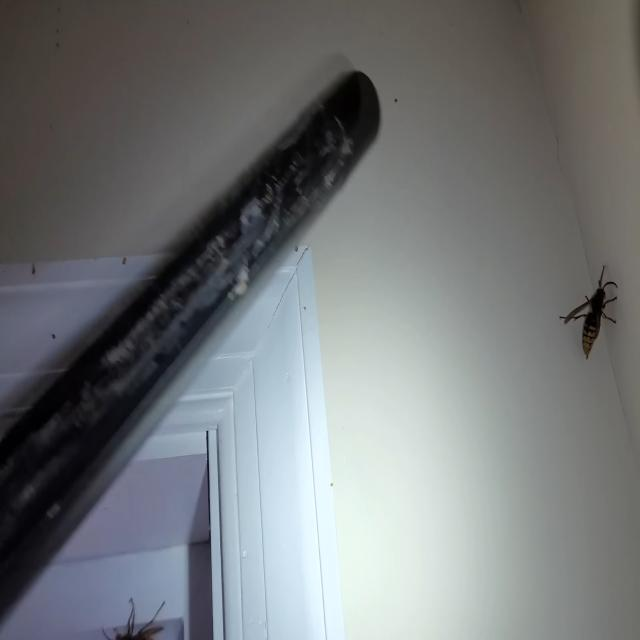Hornets: (562, 262, 620, 358)
